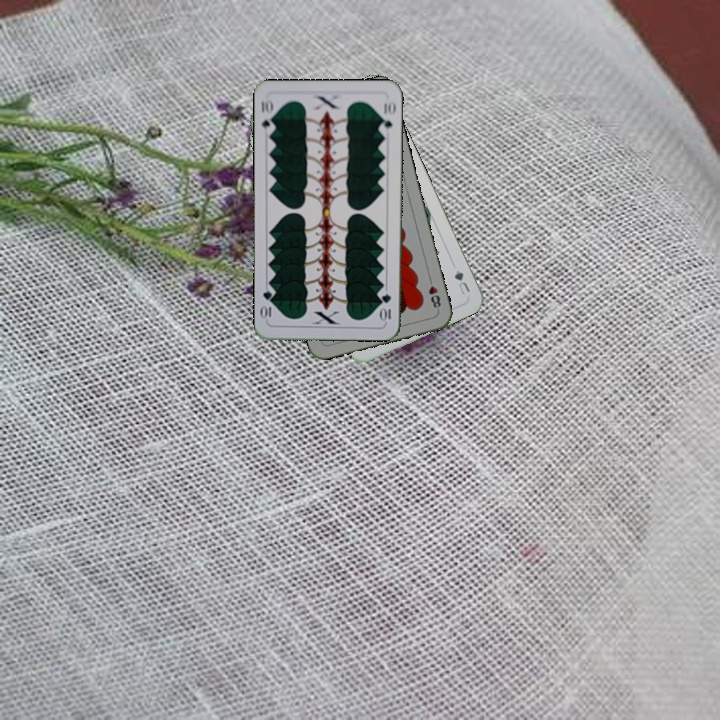G10: (257, 95, 277, 135), (378, 290, 393, 324)
GU: (450, 266, 473, 299)
H8: (424, 273, 443, 313)
